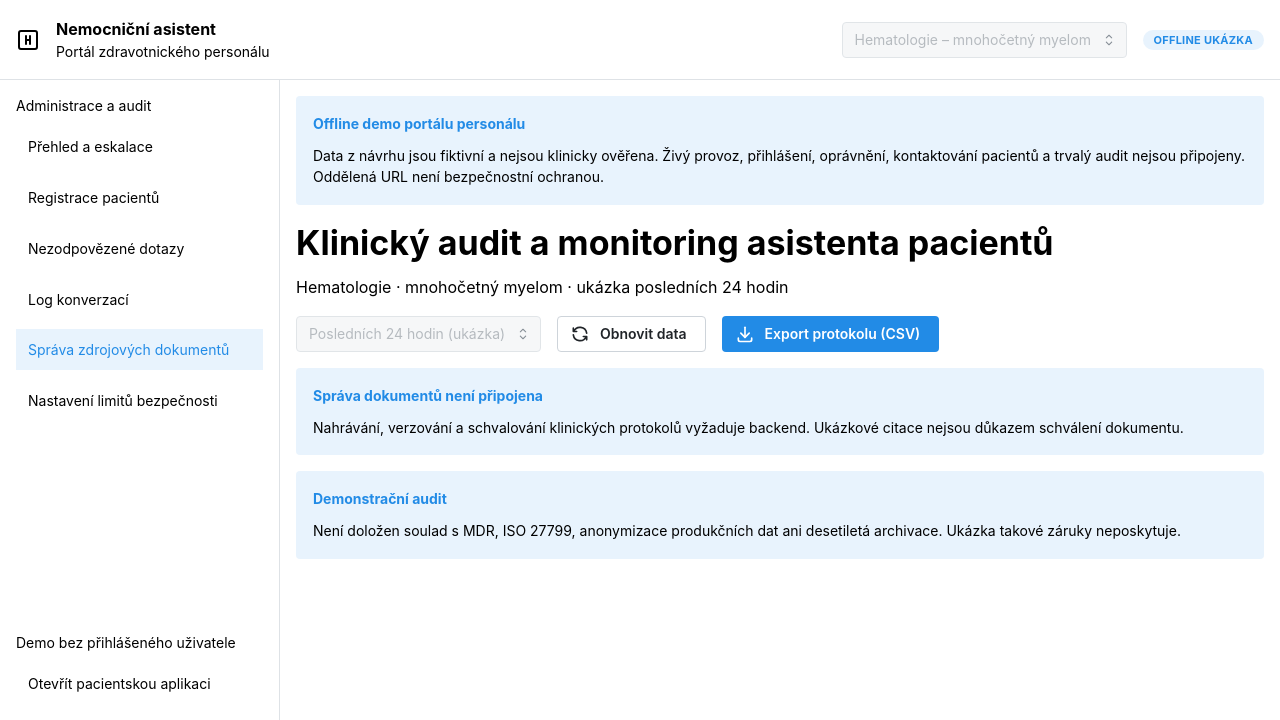
application routing › routes doctor navigation and returns to the patient application
This screenshot has width=1280, height=720.
Expected: the text "Správa dokumentů není připojena" is shown, left=313, top=385, right=543, bottom=407
Click the button "Log konverzací": point(140, 299) left=16, top=279, right=263, bottom=320
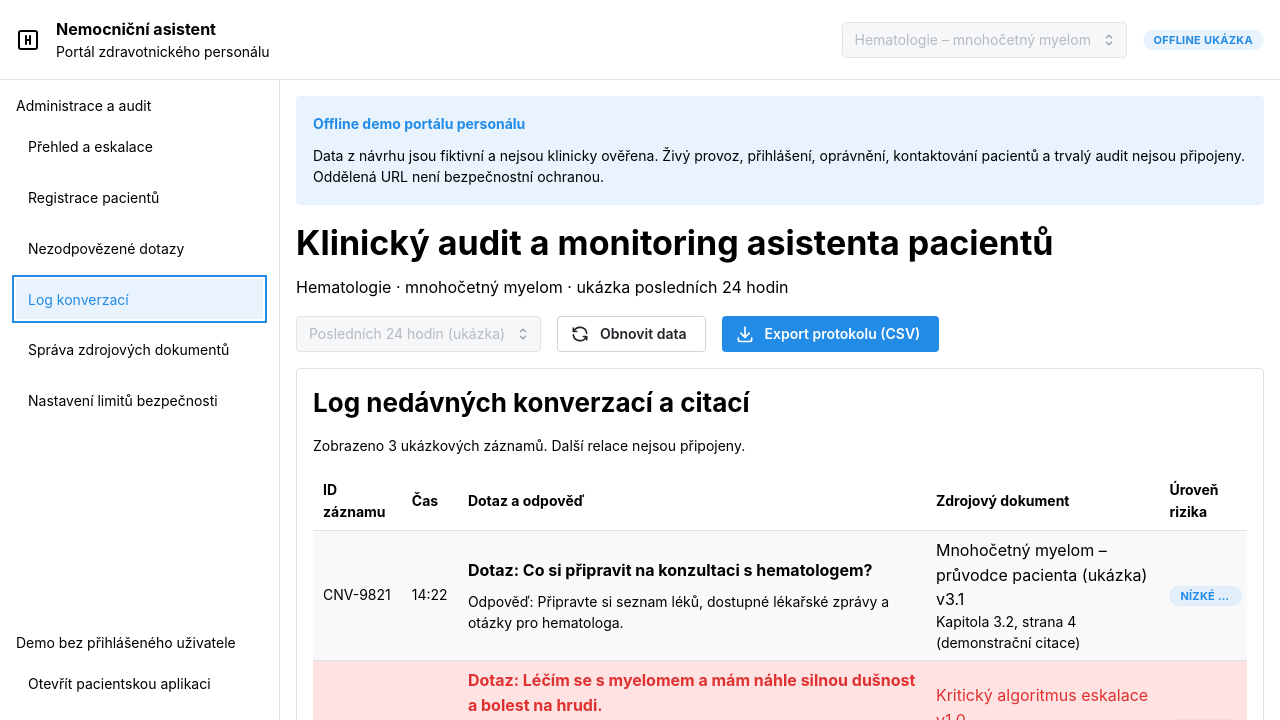
Click the link "Otevřít pacientskou aplikaci": point(119, 684) left=28, top=675, right=211, bottom=692
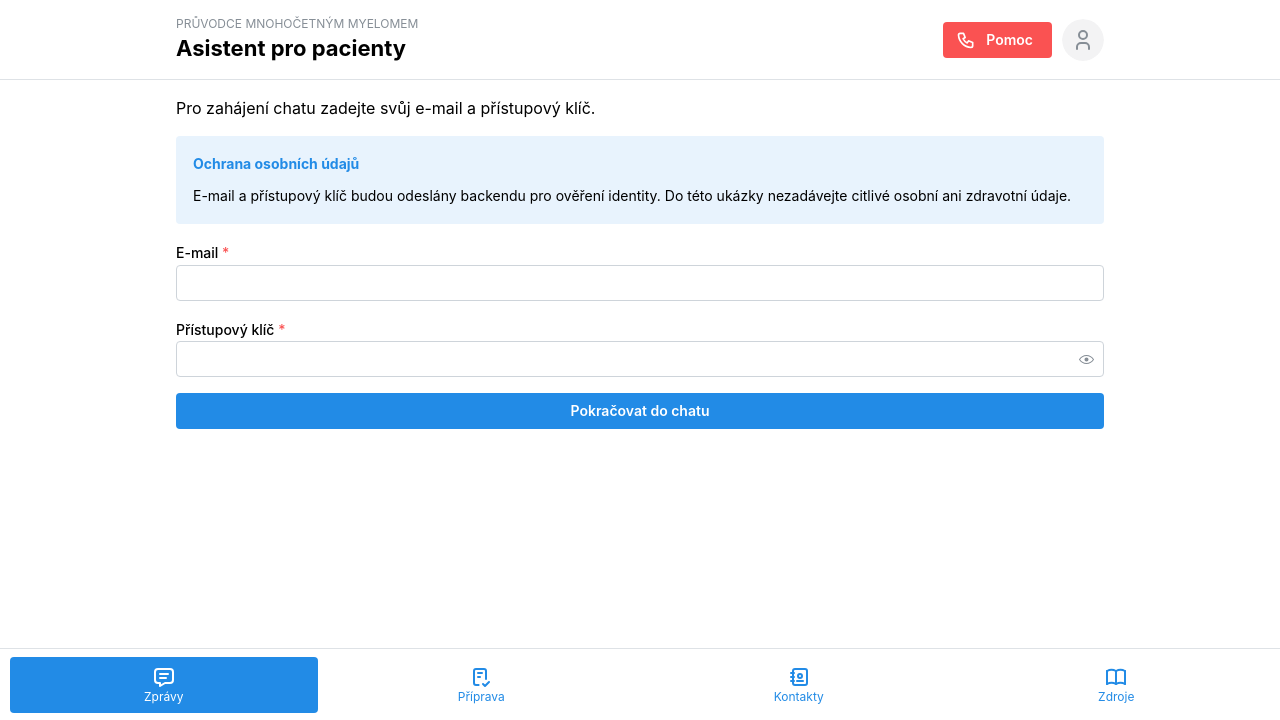
Result: the field labelled "E-mail" is shown at left=176, top=265, right=1104, bottom=301
